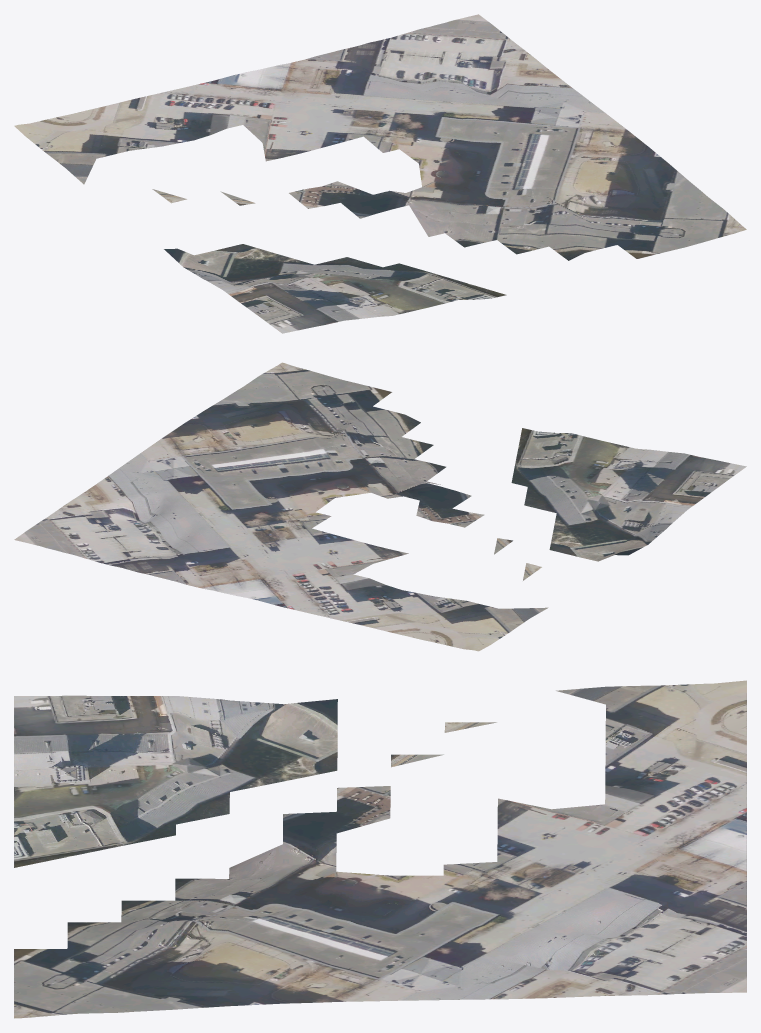
File: CM_Terrain_24487182_6821432.fbx
3 views of the same model, one above another, from view 1: azimuth 30°, elevation 25°; view 2: azimuth 150°, elevation 25°; view 3: azimuth 270°, elevation 25° (orthographic). The views are drawn at different scales.
Parts seen in each view (by area): view 1: CM_Terrain_24487182_6821432_LOD0; view 2: CM_Terrain_24487182_6821432_LOD0; view 3: CM_Terrain_24487182_6821432_LOD0.
Part boxes in pixels (box(x1,y1,x2,y2)): CM_Terrain_24487182_6821432_LOD0: box(14, 14, 746, 333); CM_Terrain_24487182_6821432_LOD0: box(14, 362, 746, 651); CM_Terrain_24487182_6821432_LOD0: box(14, 680, 746, 1018).
Size of what is drawn, in the model's own units: 205 by 11.76 by 205.
